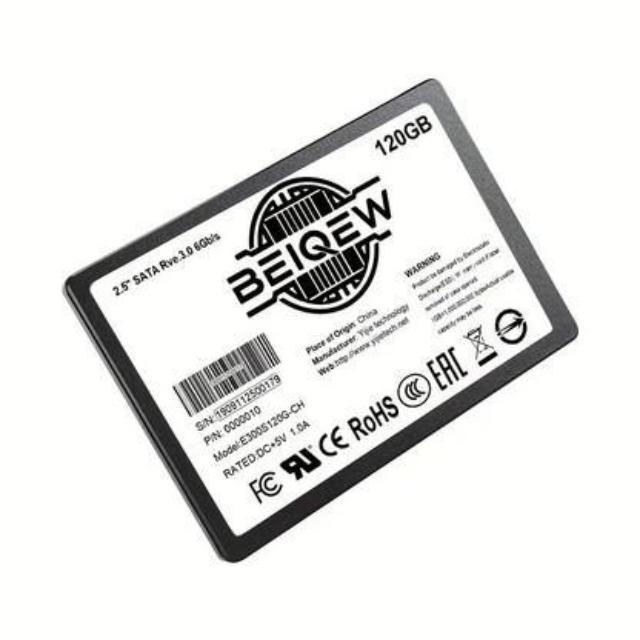DISK: (59, 74, 582, 571)
